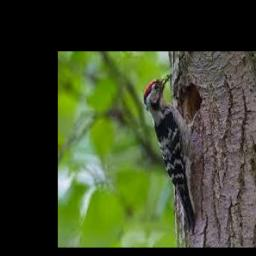Woodpecker: (144, 73, 202, 233)
